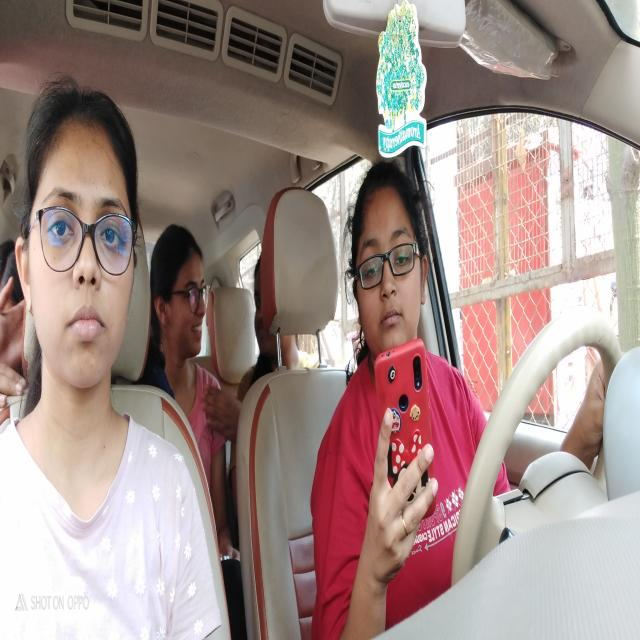mobile: (364, 338, 447, 523)
person: (13, 73, 148, 400), (344, 155, 432, 348), (150, 204, 213, 393), (250, 252, 294, 371)
